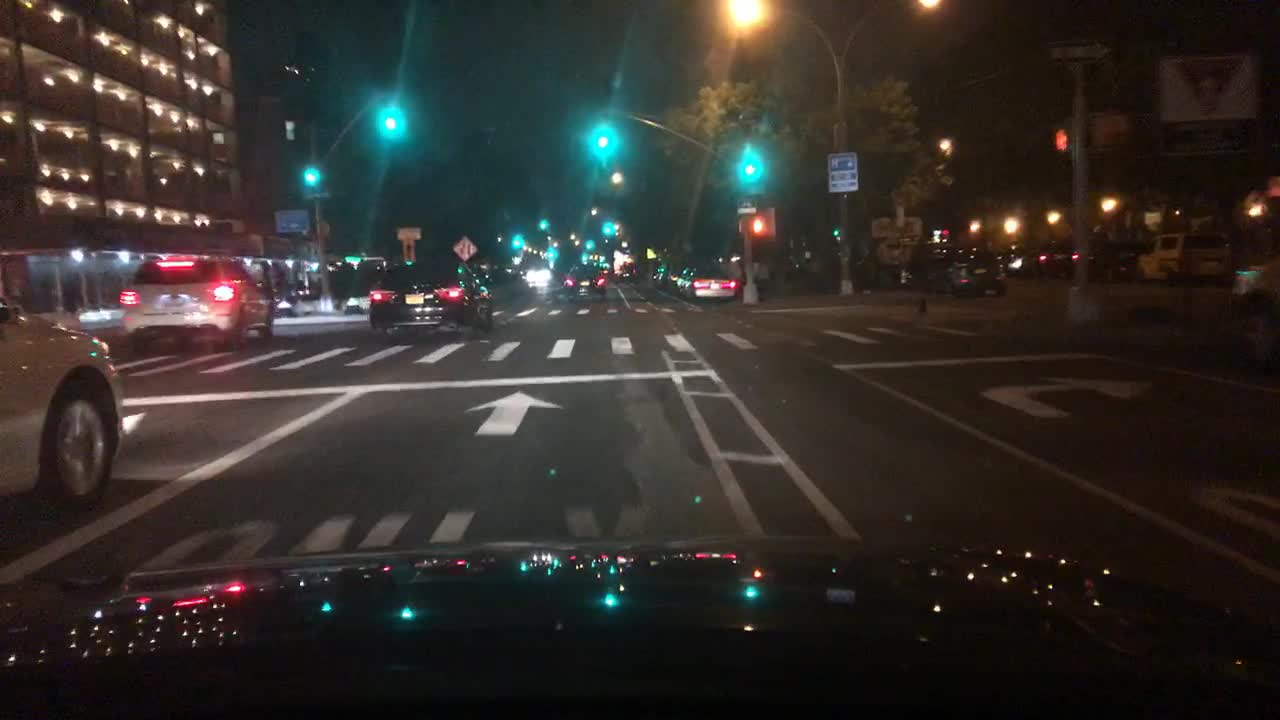car: (0, 287, 121, 506), (119, 252, 272, 355), (363, 257, 493, 336), (919, 244, 1007, 301), (1135, 230, 1235, 279), (1228, 247, 1279, 310), (684, 261, 738, 305), (559, 261, 606, 302), (1036, 240, 1078, 275), (669, 259, 695, 291), (653, 255, 679, 285), (525, 265, 556, 287), (449, 234, 476, 259), (616, 262, 638, 282)
traffic light: (1089, 119, 1122, 148), (1050, 125, 1072, 156), (593, 121, 605, 157), (749, 214, 766, 235), (745, 152, 755, 182), (303, 163, 315, 186), (386, 105, 394, 136), (536, 214, 547, 234), (602, 218, 612, 237), (512, 231, 520, 249), (545, 247, 554, 263), (735, 218, 743, 230), (587, 236, 593, 251)
traffic sign: (1046, 36, 1111, 64), (827, 152, 858, 193), (271, 207, 308, 232), (396, 224, 422, 240), (736, 196, 754, 213), (303, 190, 332, 199), (399, 240, 412, 256)
